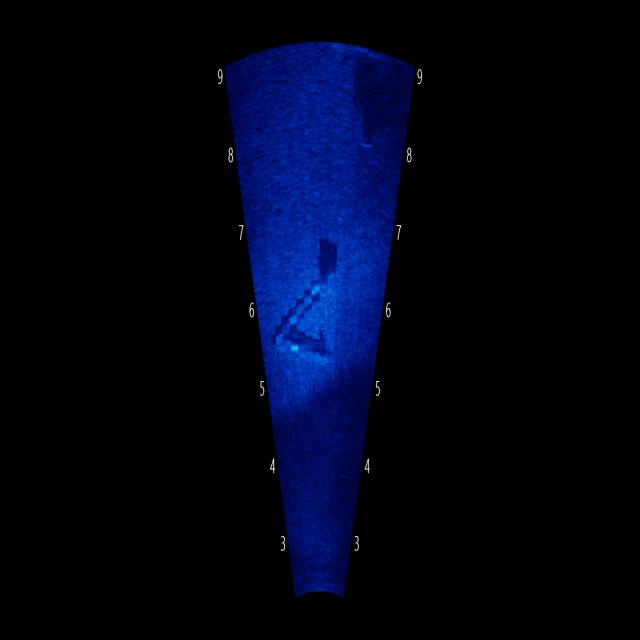triangle: (270, 207, 344, 389)
